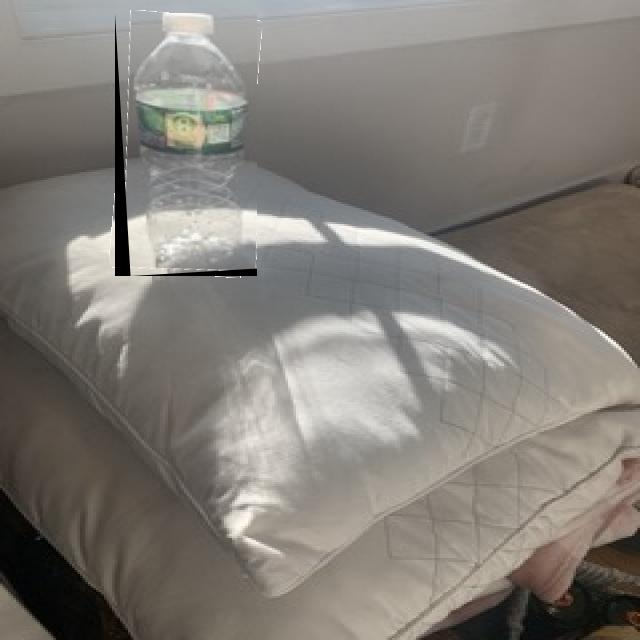water_bottle: (115, 13, 257, 276)
